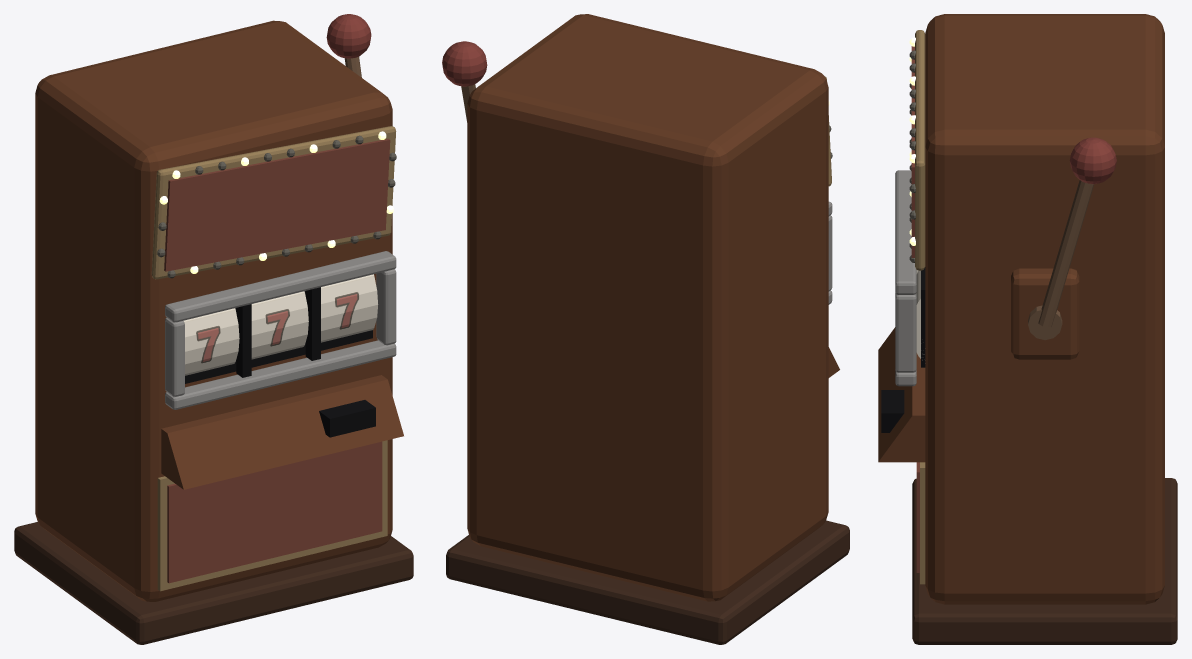
File: slot_machine_tier1.glb
The picture shows the model from 3 angles, left to right: view 1: azimuth 30°, elevation 25°; view 2: azimuth 150°, elevation 25°; view 3: azimuth 270°, elevation 25°; orthographic projection. The views are drawn at different scales.
Parts seen in each view (by area): view 1: Body, Header, Reel_M, Reel_R, Reel_L, Lever; view 2: Body, Lever; view 3: Body, Lever, Header.
Part boxes in pixels (x1=…): Body: x1=14, y1=20, x2=413, y2=644; Header: x1=151, y1=126, x2=396, y2=279; Reel_M: x1=251, y1=291, x2=308, y2=359; Reel_R: x1=321, y1=274, x2=378, y2=342; Reel_L: x1=183, y1=308, x2=239, y2=375; Lever: x1=326, y1=14, x2=371, y2=77; Body: x1=446, y1=14, x2=849, y2=644; Lever: x1=442, y1=41, x2=487, y2=122; Body: x1=878, y1=14, x2=1177, y2=644; Lever: x1=1028, y1=137, x2=1116, y2=340; Header: x1=909, y1=30, x2=925, y2=270.
Bounding box in the file's own units: 0.89 × 1.34 × 0.7.
11 materials, 1 textured.
